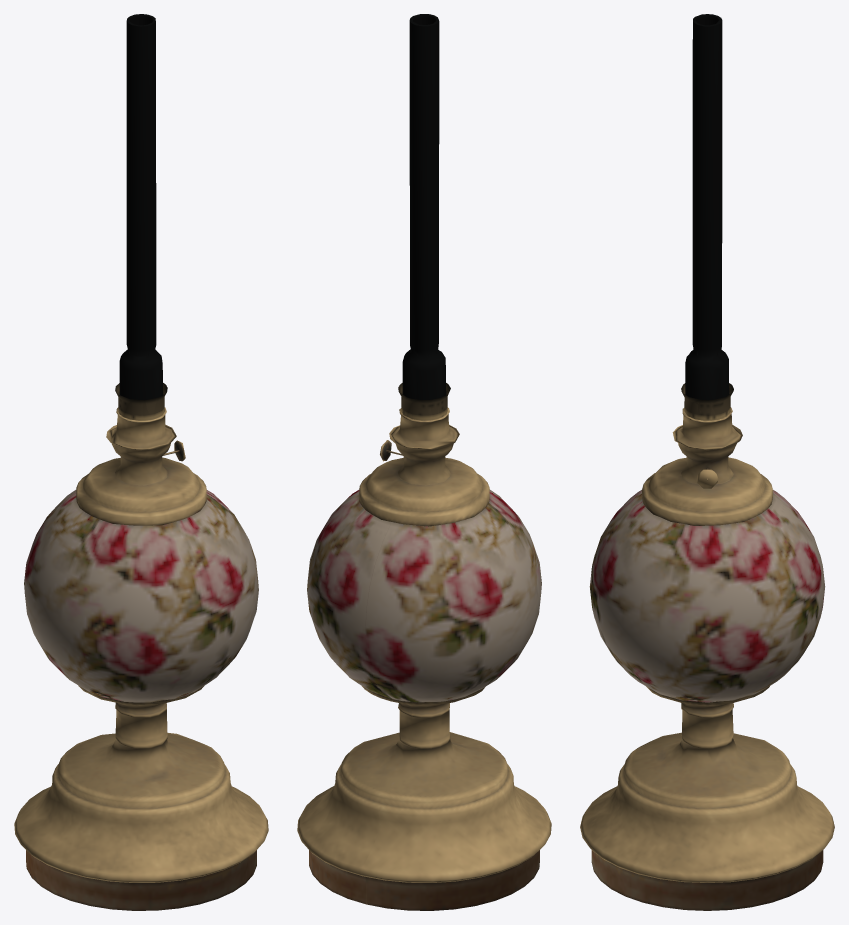
The model's file is vintage_oil_lamp.glb.
3 renders of one model, left to right at view 1: azimuth 30°, elevation 25°; view 2: azimuth 150°, elevation 25°; view 3: azimuth 270°, elevation 25°, orthographic.
Parts seen in each view (by area): view 1: vintage_oil_lamp, vintage_oil_lamp_glass; view 2: vintage_oil_lamp, vintage_oil_lamp_glass; view 3: vintage_oil_lamp, vintage_oil_lamp_glass.
Part boxes in pixels (x1,y1,x2,y2): vintage_oil_lamp: [14, 407, 268, 910]; vintage_oil_lamp_glass: [115, 14, 167, 420]; vintage_oil_lamp: [297, 407, 551, 910]; vintage_oil_lamp_glass: [398, 14, 450, 420]; vintage_oil_lamp: [580, 407, 834, 910]; vintage_oil_lamp_glass: [681, 14, 733, 420].
Size of the model in its own units: 0.22 by 0.8016 by 0.22.
3 materials, 3 textured.
